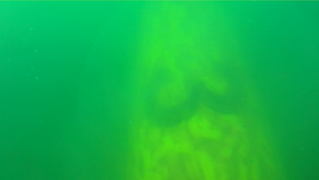3: (143, 61, 248, 127)
pipe: (126, 1, 284, 179)
